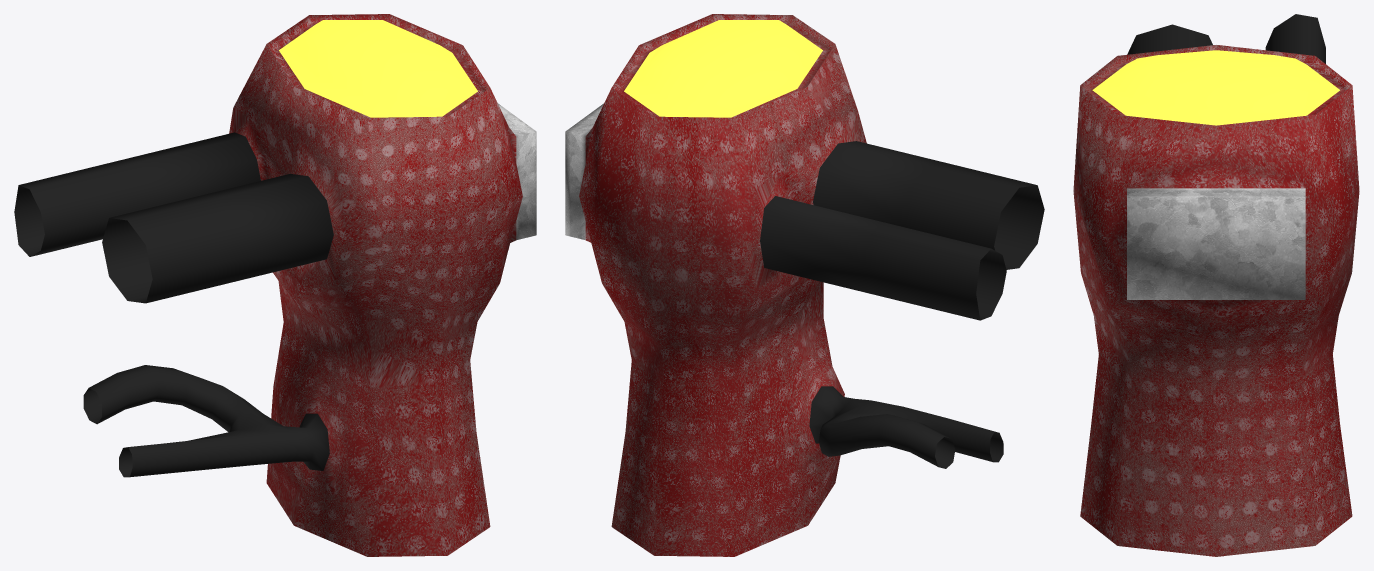
Rendered from Gen2.fbx.
3 renders of one model, left to right at view 1: azimuth 30°, elevation 25°; view 2: azimuth 150°, elevation 25°; view 3: azimuth 270°, elevation 25°, orthographic.
Visible parts, largest first — view 1: Cube.003; view 2: Cube.003; view 3: Cube.003.
Part boxes in pixels (x1,y1,x2,y2): Cube.003: (14,14,536,556); Cube.003: (565,14,1044,556); Cube.003: (1073,14,1359,556).
Size of the model in its own units: 456 by 477 by 274.
